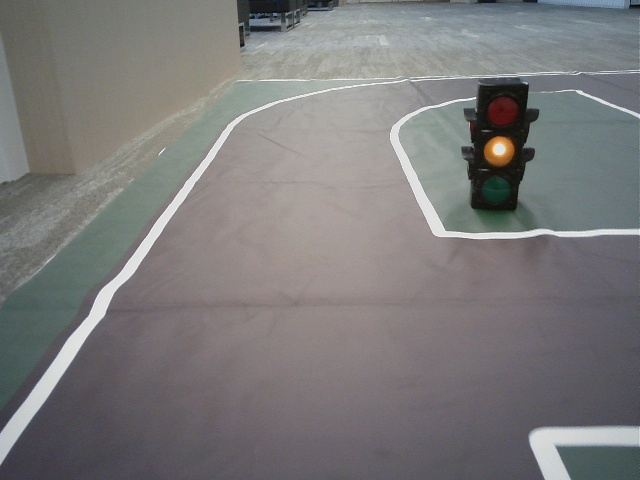yellow: (477, 88, 518, 206)
